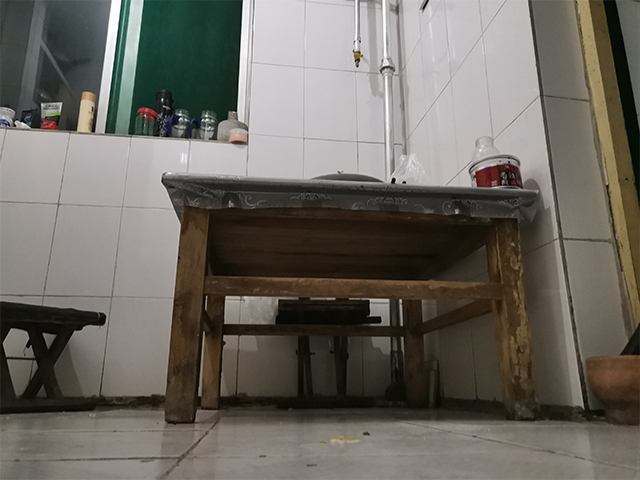stool: (272, 297, 382, 410), (1, 300, 109, 414)
table: (156, 169, 543, 426)
